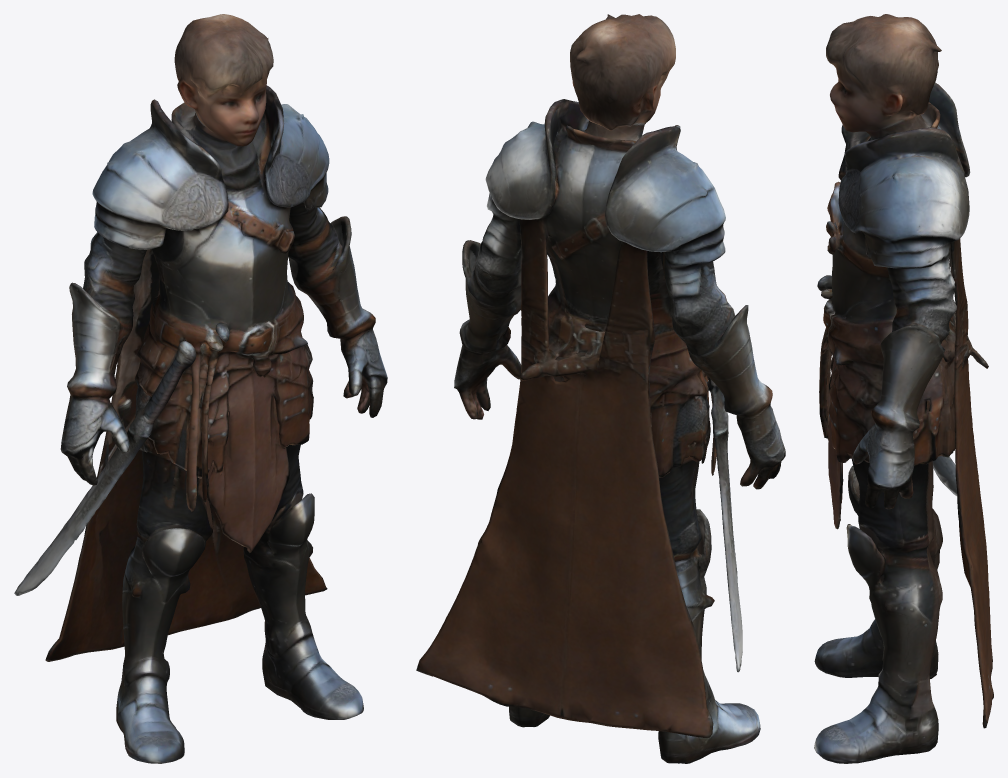
Rendered from king.glb.
3 views of the same model, side by side, from view 1: azimuth 30°, elevation 25°; view 2: azimuth 150°, elevation 25°; view 3: azimuth 270°, elevation 25° (orthographic). The views are drawn at different scales.
Size of the model in its own units: 0.9656 by 1.99 by 0.4711.
Materials: 1 (1 with a texture image).
